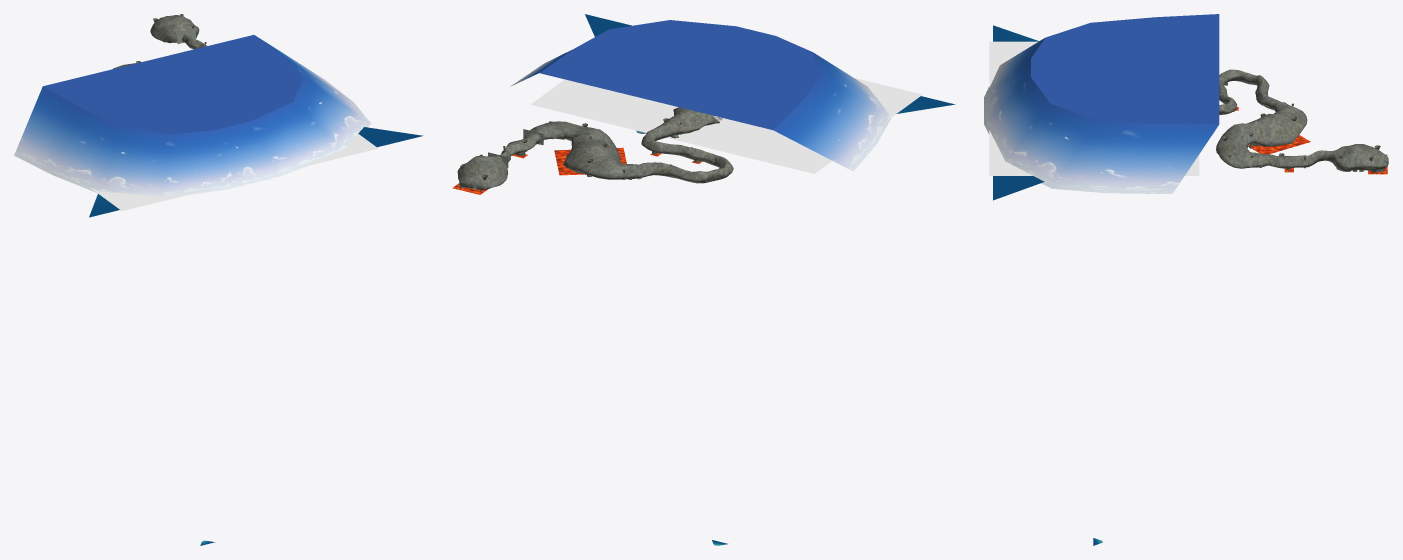
File: cave.glb
The picture shows the model from 3 angles, left to right: view 1: azimuth 30°, elevation 25°; view 2: azimuth 150°, elevation 25°; view 3: azimuth 270°, elevation 25°; orthographic projection. The views are drawn at different scales.
Parts seen in each view (by area): view 1: cavebackground, topwateroutside, portal7, cavewateroutside; view 2: cavebackground, topwateroutside, portal5, portal7, portal1, cavewateroutside, portal6, portal4; view 3: cavebackground, portal5, portal7, topwateroutside, cavewateroutside, portal6, portal4.
Boxes of the visible parts, x1,y1,x2,y2 form: cavebackground: [14, 35, 370, 196]; topwateroutside: [90, 134, 378, 210]; portal7: [150, 14, 206, 49]; cavewateroutside: [89, 127, 423, 545]; cavebackground: [510, 20, 891, 171]; topwateroutside: [531, 78, 922, 173]; portal5: [563, 127, 691, 182]; portal7: [457, 134, 539, 191]; portal1: [653, 107, 719, 139]; cavewateroutside: [585, 14, 955, 545]; portal6: [523, 121, 589, 144]; portal4: [690, 155, 733, 183]; cavebackground: [984, 14, 1219, 193]; portal5: [1219, 79, 1307, 148]; portal7: [1262, 144, 1388, 172]; topwateroutside: [989, 41, 1199, 175]; cavewateroutside: [993, 25, 1102, 545]; portal6: [1216, 135, 1263, 168]; portal4: [1219, 69, 1268, 85].
Bounding box in the file's own units: 313 × 394 × 306.
39 materials, 34 textured.
